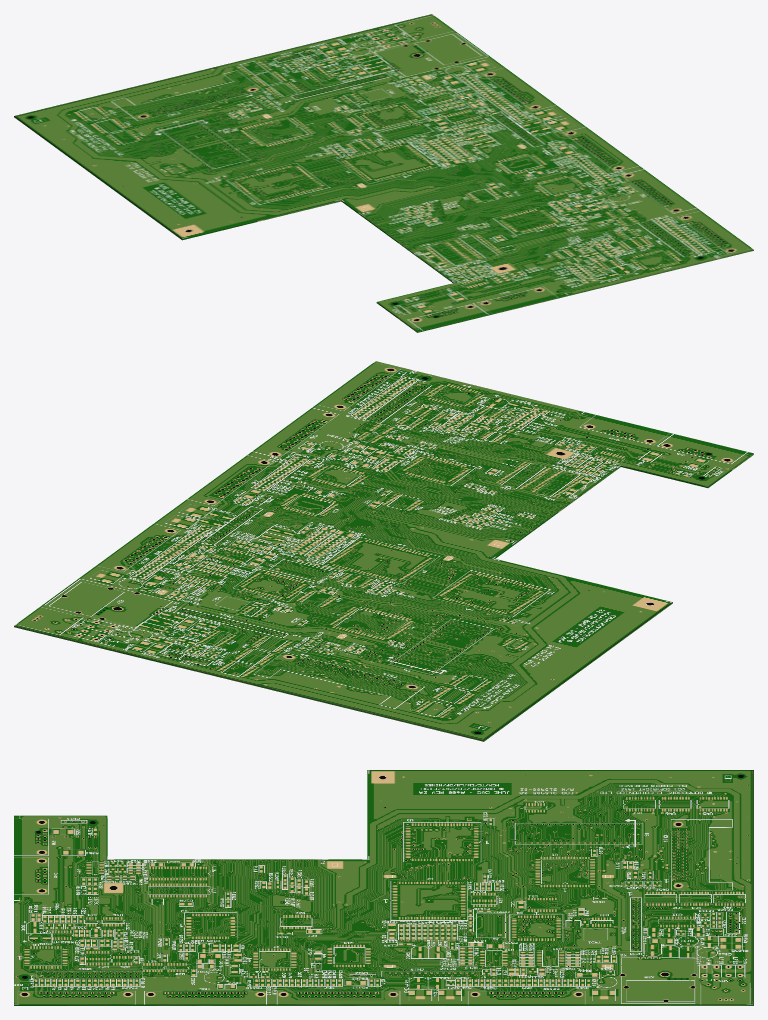
File: A600Motherboard.FBX
3 renders of one model, top to bottom at view 1: azimuth 30°, elevation 25°; view 2: azimuth 150°, elevation 25°; view 3: azimuth 270°, elevation 25°, orthographic. The views are drawn at different scales.
Visible parts, largest first — view 1: A600PCB; view 2: A600PCB; view 3: A600PCB.
Part boxes in pixels (<box>): A600PCB: <box>14,14,753,332</box>; A600PCB: <box>14,361,753,741</box>; A600PCB: <box>14,770,753,1005</box>.
Bounding box in the file's own units: 96 × 0.25 × 128.
1 material, 1 textured.
